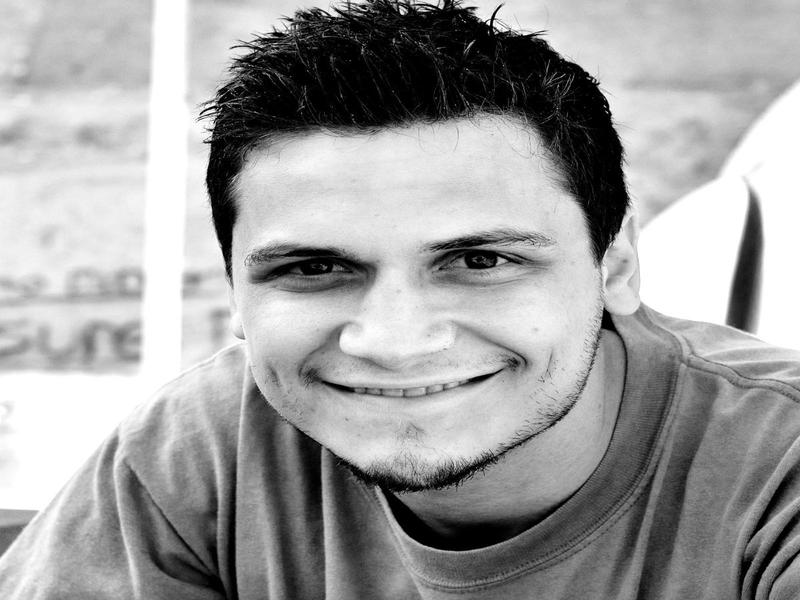person: (19, 5, 800, 599)
